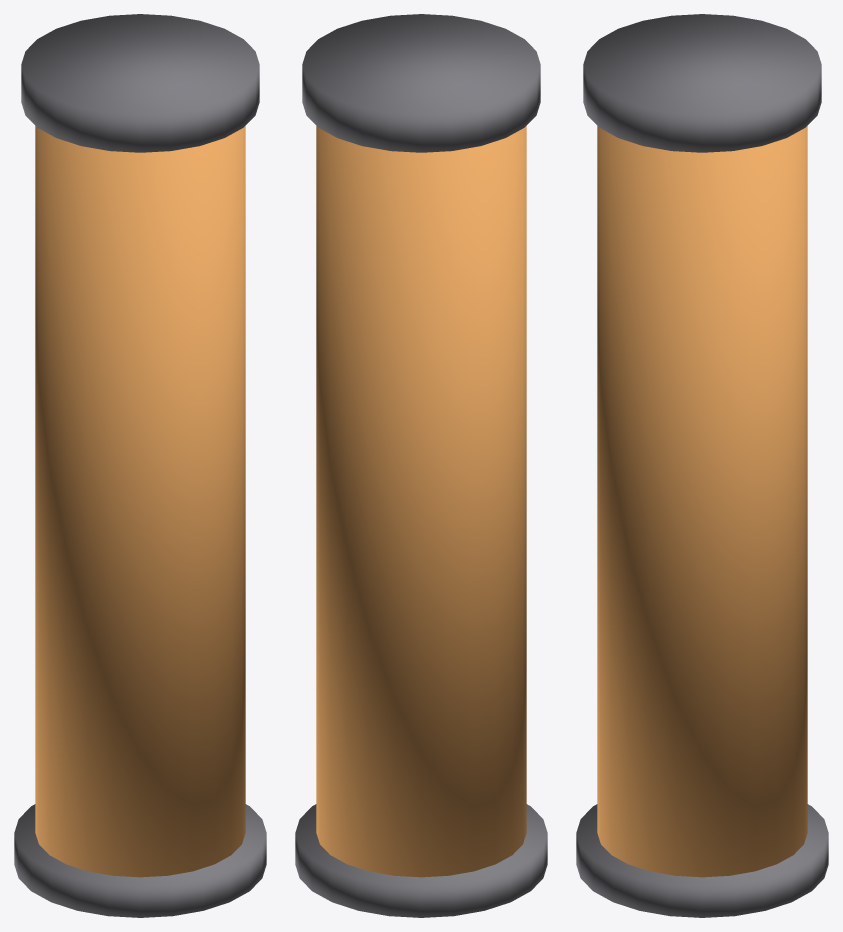
The model's file is info_pillar.glb.
The picture shows the model from 3 angles, left to right: view 1: azimuth 30°, elevation 25°; view 2: azimuth 150°, elevation 25°; view 3: azimuth 270°, elevation 25°; orthographic projection.
Parts seen in each view (by area): view 1: info_col, info_cap, info_base; view 2: info_col, info_cap, info_base; view 3: info_col, info_cap, info_base.
Part boxes in pixels (x1,y1,x2,y2): info_col: (35, 126, 245, 877); info_cap: (21, 14, 259, 152); info_base: (14, 804, 266, 917); info_col: (316, 126, 526, 877); info_cap: (302, 14, 540, 152); info_base: (295, 804, 547, 917); info_col: (597, 126, 807, 877); info_cap: (583, 14, 821, 152); info_base: (576, 804, 828, 917).
Bounding box in the file's own units: 0.72 × 2.52 × 0.72.
